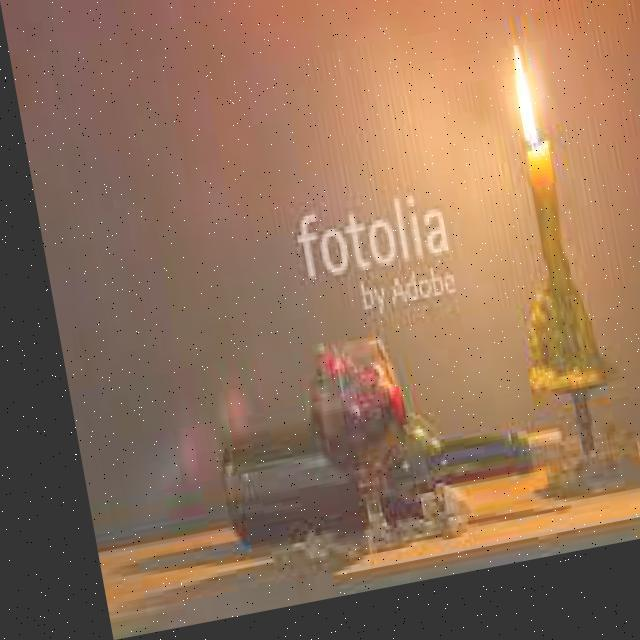Fire: (482, 55, 546, 174)
